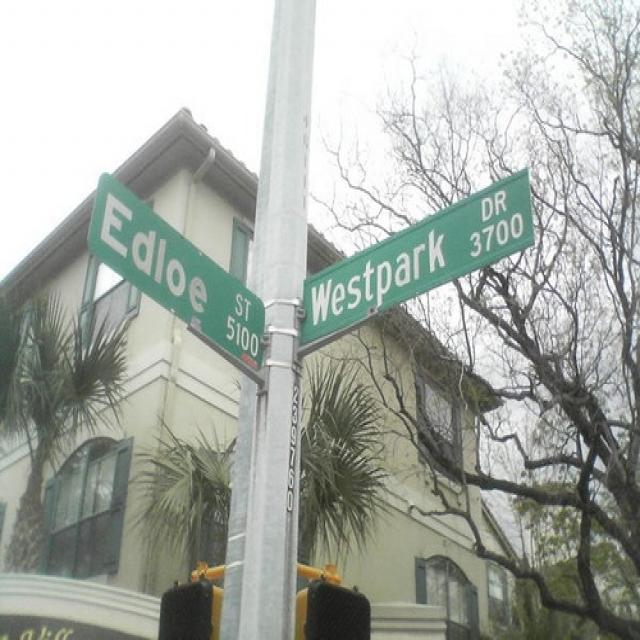pole: (210, 0, 315, 633)
